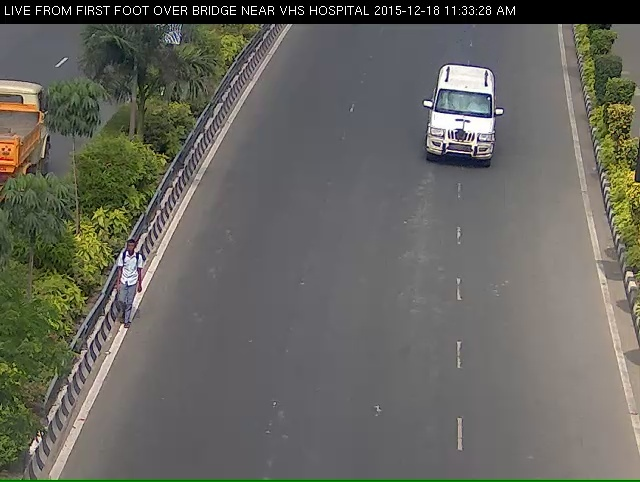Car: (417, 68, 509, 192)
Person: (106, 240, 144, 341)
